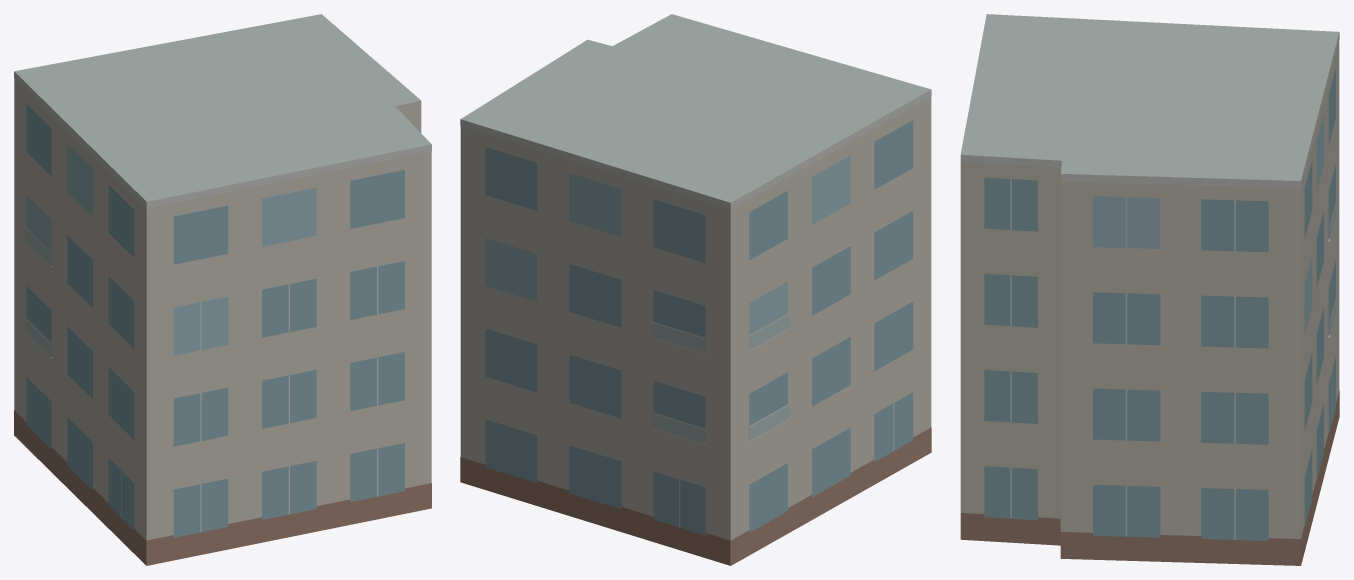
Rendered from survey-upis-33045503.glb.
3 renders of one model, left to right at view 1: azimuth 30°, elevation 25°; view 2: azimuth 150°, elevation 25°; view 3: azimuth 270°, elevation 25°, orthographic. The views are drawn at different scales.
Parts seen in each view (by area): view 1: survey-upis-33045503.tmp; view 2: survey-upis-33045503.tmp; view 3: survey-upis-33045503.tmp.
Boxes of the visible parts, box(x1,y1,x2,y2) form: survey-upis-33045503.tmp: box(14, 14, 431, 565); survey-upis-33045503.tmp: box(460, 14, 931, 565); survey-upis-33045503.tmp: box(960, 14, 1339, 565).
Size of the model in its own units: 11.83 by 12.7 by 11.34.
